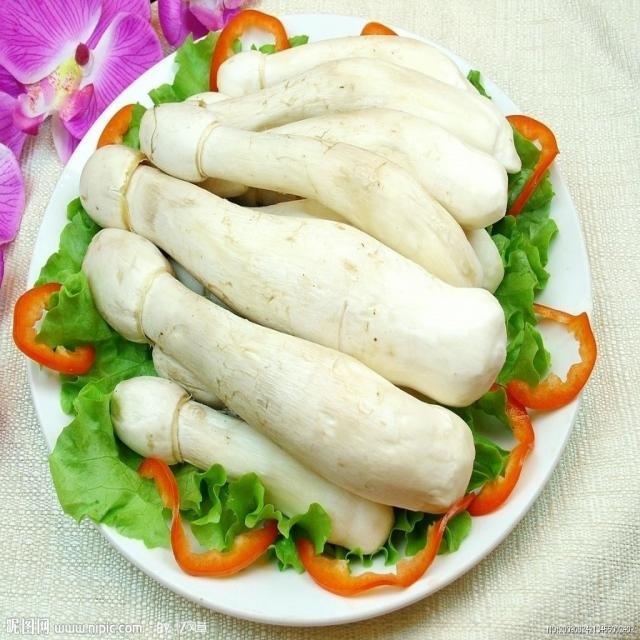Coprinus comatus: (78, 145, 509, 407), (83, 230, 476, 510), (138, 101, 485, 284), (111, 375, 395, 552), (207, 33, 471, 89)
